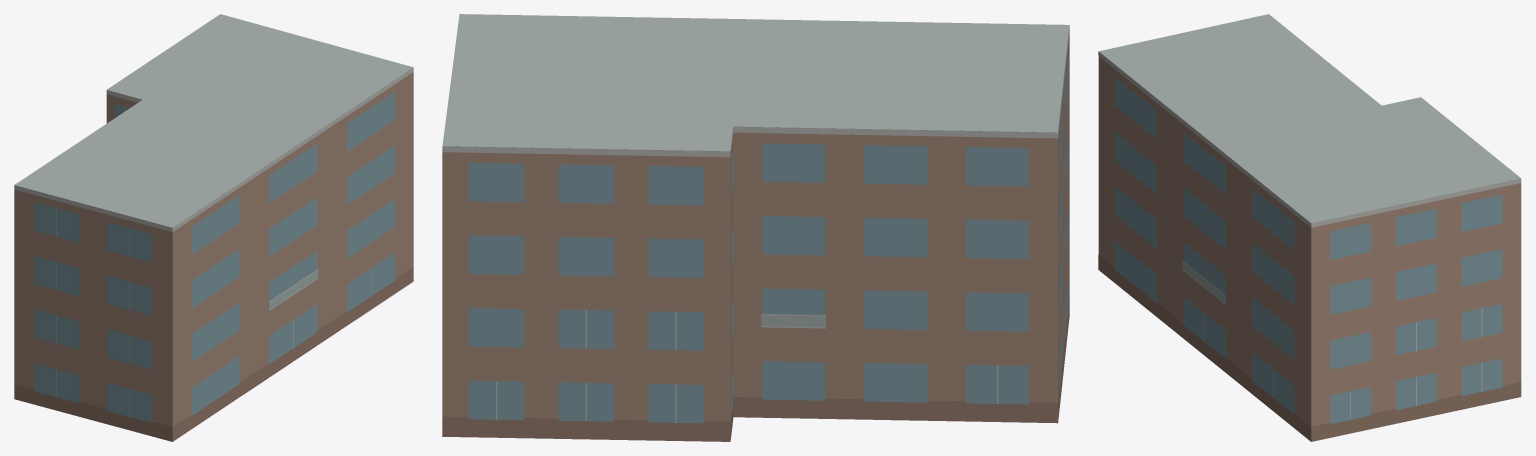
File: survey-upis-32840241.glb
3 views of the same model, side by side, from view 1: azimuth 30°, elevation 25°; view 2: azimuth 150°, elevation 25°; view 3: azimuth 270°, elevation 25° (orthographic). The views are drawn at different scales.
Visible parts, largest first — view 1: survey-upis-32840241.tmp; view 2: survey-upis-32840241.tmp; view 3: survey-upis-32840241.tmp.
Part boxes in pixels (<box>): survey-upis-32840241.tmp: <box>14,14,413,441</box>; survey-upis-32840241.tmp: <box>442,14,1069,441</box>; survey-upis-32840241.tmp: <box>1098,14,1521,441</box>.
Size of the model in its own units: 24.31 by 11.83 by 20.75.
